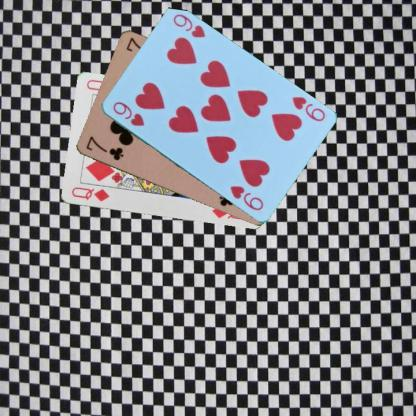7c: (83, 134, 124, 162)
9h: (289, 94, 326, 123), (110, 98, 146, 127)
Qd: (69, 184, 110, 203)
